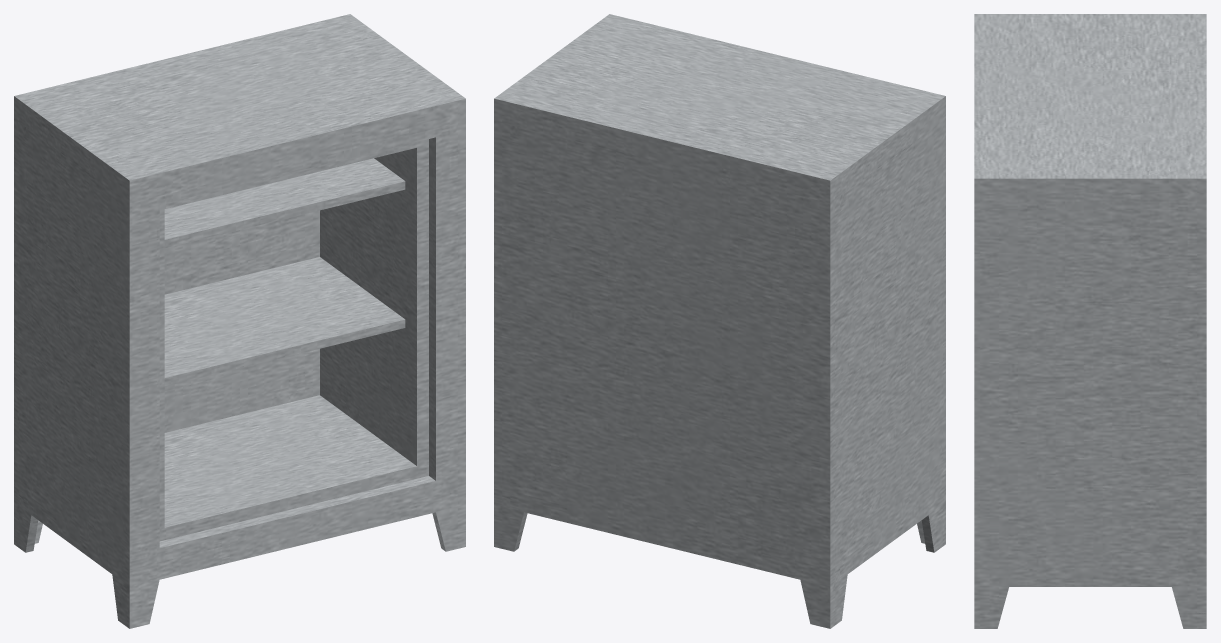
File: frame.dae
3 renders of one model, left to right at view 1: azimuth 30°, elevation 25°; view 2: azimuth 150°, elevation 25°; view 3: azimuth 270°, elevation 25°, orthographic.
Parts seen in each view (by area): view 1: group_81.002, group_81.003, group_81.004; view 2: group_81.002; view 3: group_81.002.
Part boxes in pixels (<box>): group_81.002: <box>14,14,465,628</box>; group_81.003: <box>164,148,416,527</box>; group_81.004: <box>159,137,435,547</box>; group_81.002: <box>494,14,945,628</box>; group_81.002: <box>974,14,1206,628</box>.
Size of the model in its own units: 0.8268 by 0.4921 by 1.05.
1 material, 1 textured.
